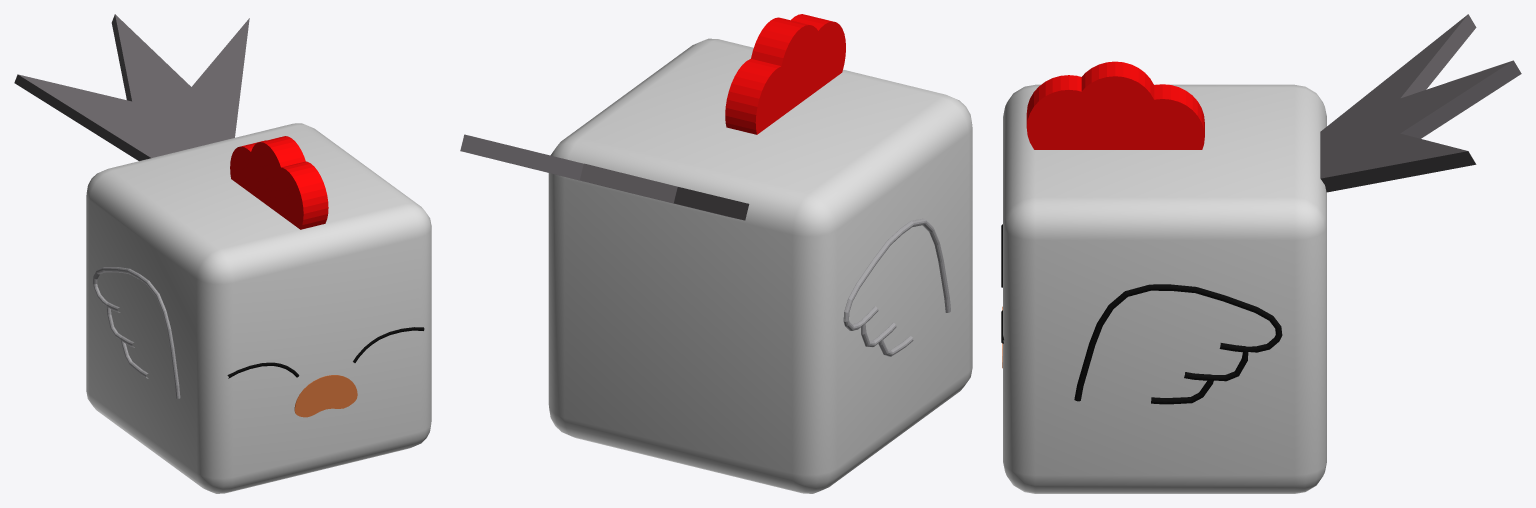
Rendered from Chicken.fbx.
3 views of the same model, side by side, from view 1: azimuth 30°, elevation 25°; view 2: azimuth 150°, elevation 25°; view 3: azimuth 270°, elevation 25° (orthographic). The views are drawn at different scales.
Parts seen in each view (by area): view 1: Chicken; view 2: Chicken; view 3: Chicken.
Boxes of the visible parts, left/top/right/bottom form: Chicken: left=14, top=14, right=431, bottom=493; Chicken: left=460, top=14, right=972, bottom=493; Chicken: left=1001, top=14, right=1521, bottom=493.
Bounding box in the file's own units: 205 × 256 × 321.
